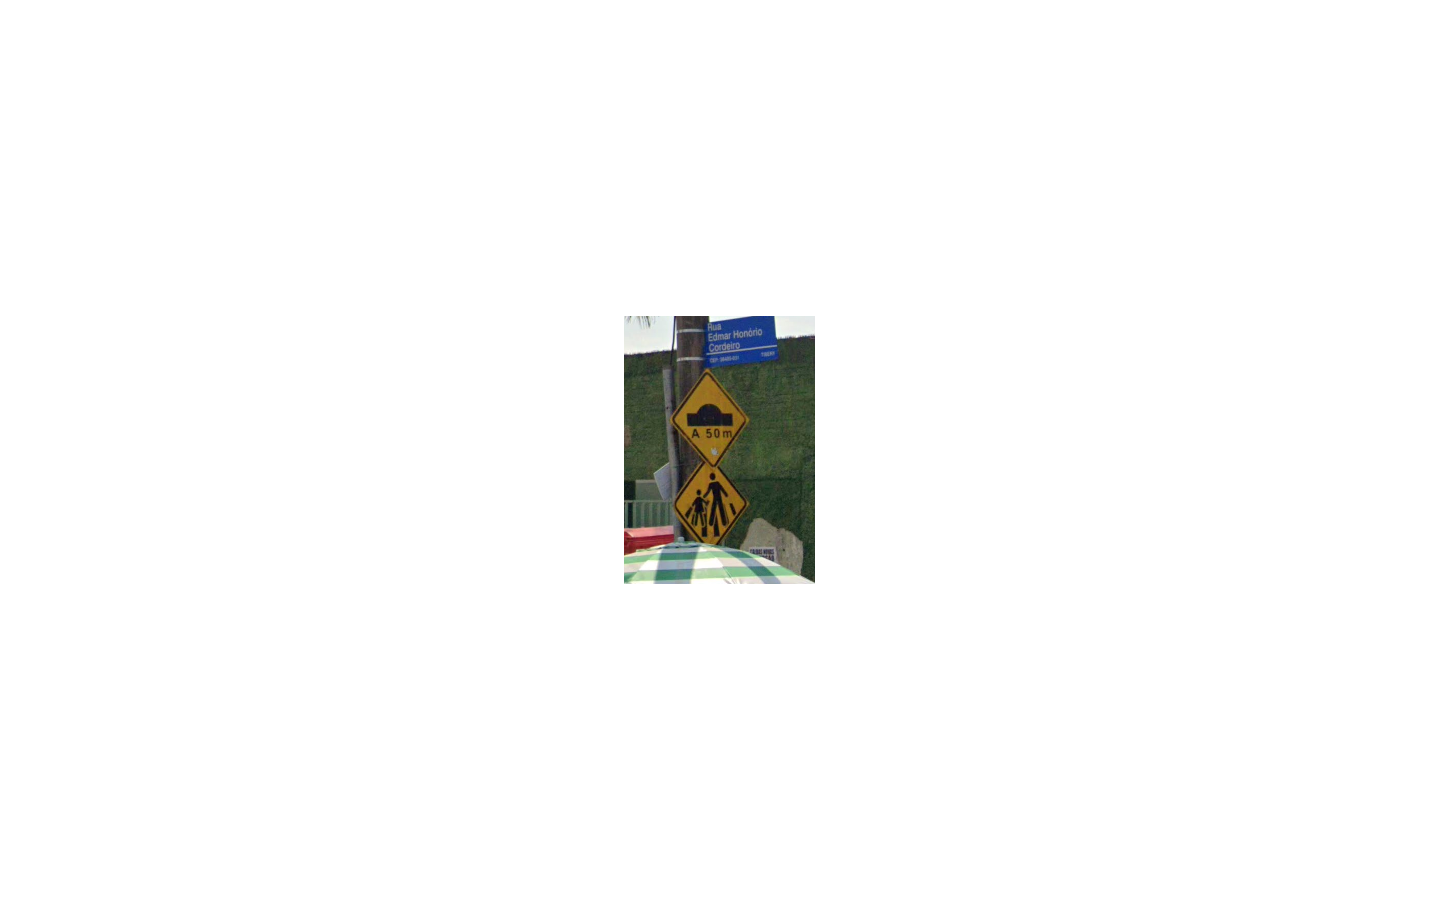l50m: (669, 369, 750, 469)
